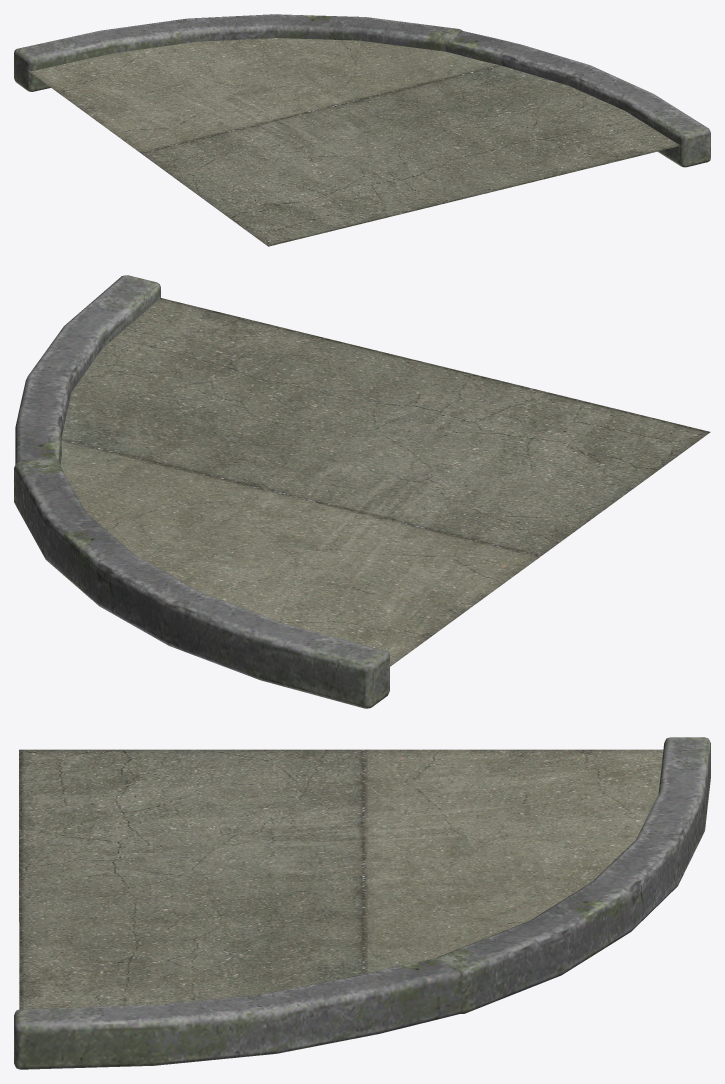
The model's file is Sidewalk_06.fbx.
The picture shows the model from 3 angles, top to bottom: view 1: azimuth 30°, elevation 25°; view 2: azimuth 150°, elevation 25°; view 3: azimuth 270°, elevation 25°; orthographic projection. The views are drawn at different scales.
Parts seen in each view (by area): view 1: Sidewalk_06; view 2: Sidewalk_06; view 3: Sidewalk_06.
Part boxes in pixels (x1,y1,x2,y2): Sidewalk_06: [14, 14, 710, 246]; Sidewalk_06: [14, 275, 710, 708]; Sidewalk_06: [14, 737, 710, 1069].
Size of the model in its own units: 202 by 14.83 by 204.
